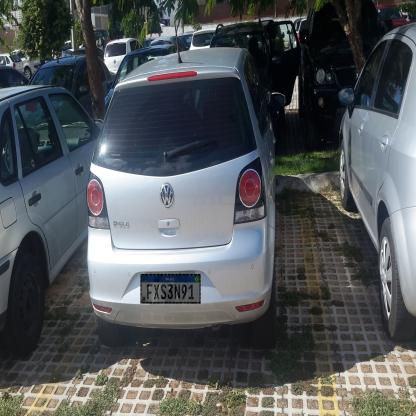PlacaM: (140, 274, 200, 304)
